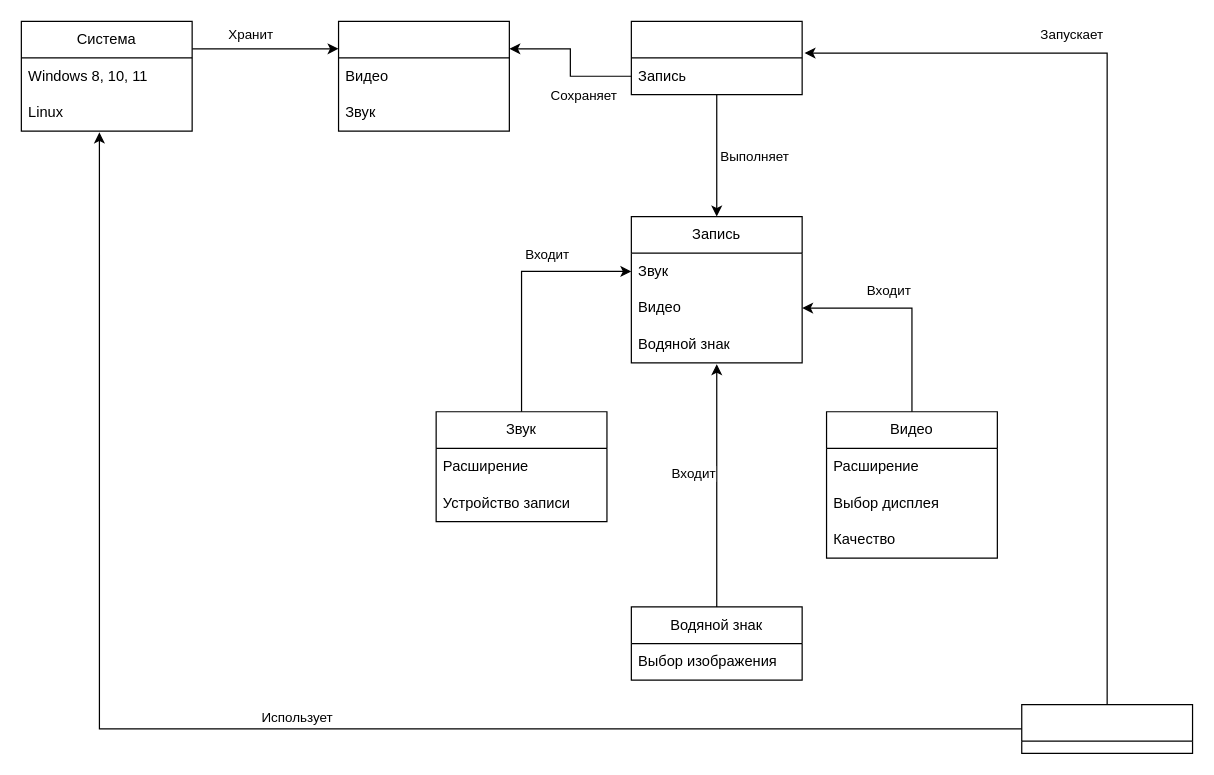
Image size: 1214x775. Some labels were removed from this diagram. The shapes that lost their labels are listed below. From the top down, each one's box as (x1, y1, x2, y2) in pixels, then its label:
(337, 20, 509, 131): Готовые файлы
(630, 20, 802, 95): Программа
(1021, 703, 1193, 753): Пользователь
